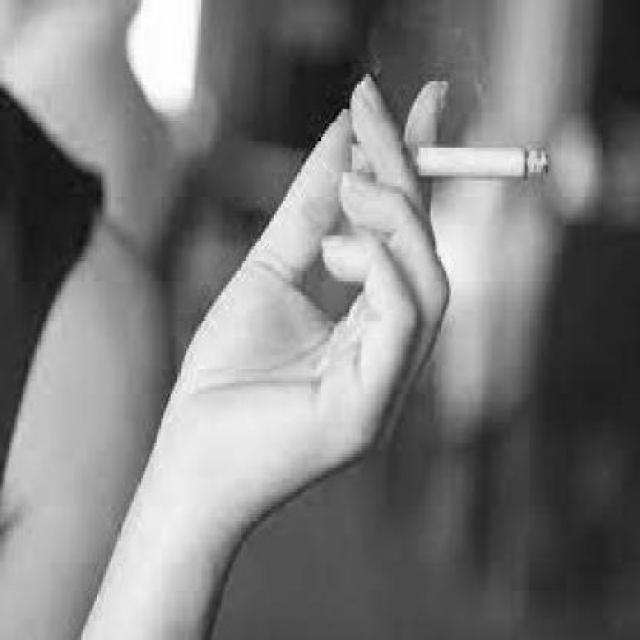cigarette: (343, 140, 551, 183)
